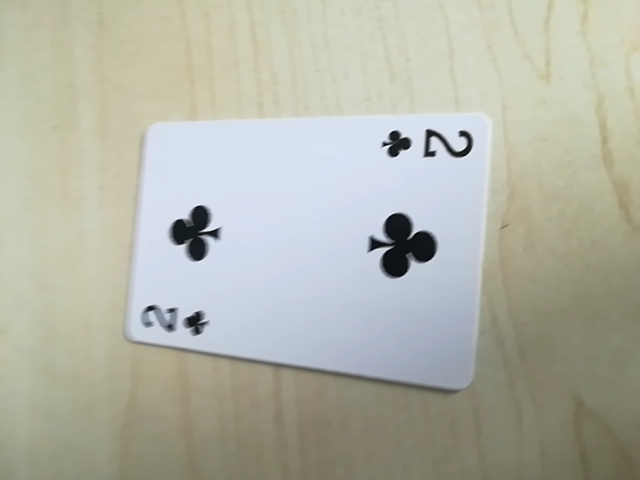mh 2: (375, 120, 480, 169), (135, 297, 218, 340)
